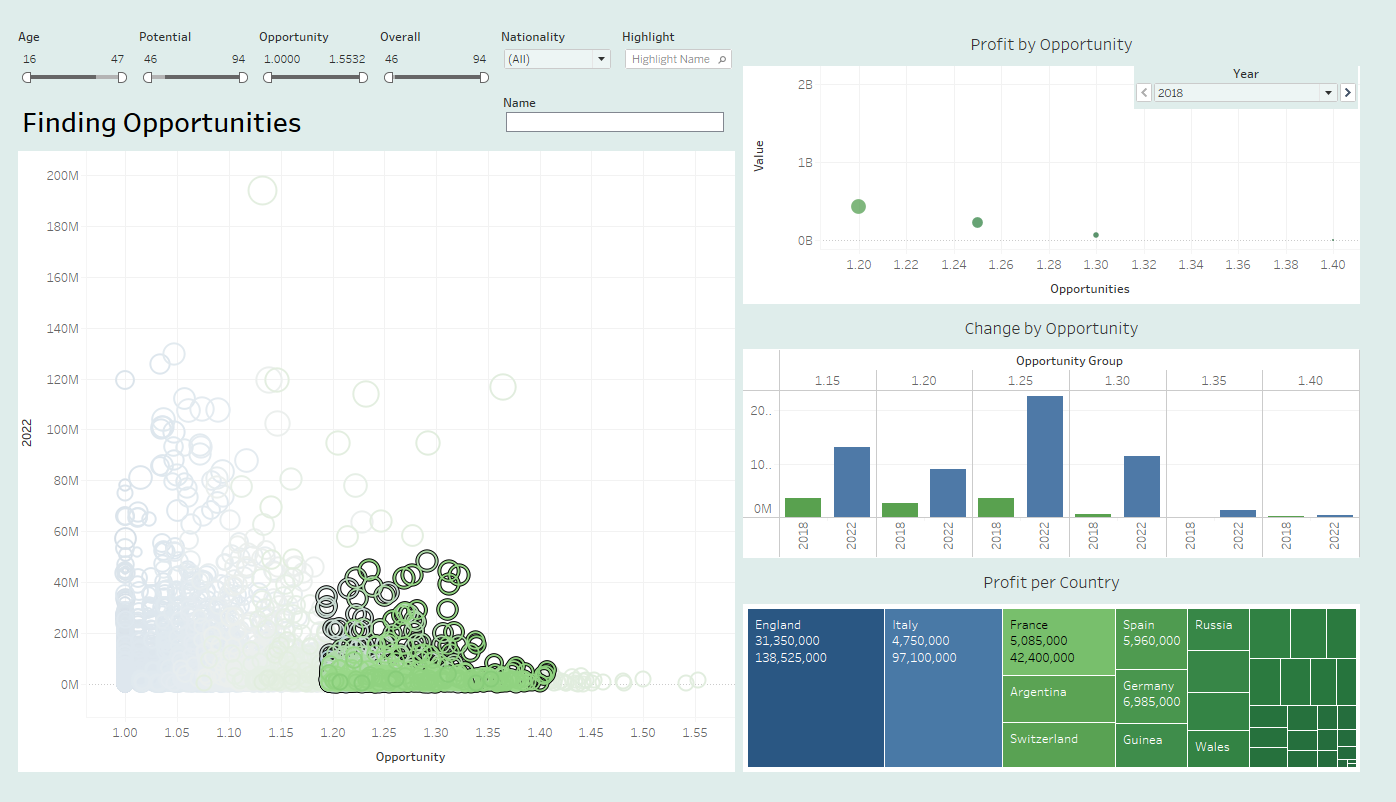

What the dashboard file says about the page in this screenshot:
{"tool":"tableau","page":{"name":"Dashboard","canvas":[1366,768],"ordinal":0},"visuals":[{"type":"filter","title":"Finding Opportunities","param":"[federated.0w4lbyq1ur9ub4160477h1f88rcn].[none:Age:qk]","box":[8,8,120.7,71]},{"type":"filter","title":"Finding Opportunities","param":"[federated.0w4lbyq1ur9ub4160477h1f88rcn].[sum:Potential:qk]","box":[128.7,8,120.7,71]},{"type":"filter","title":"Finding Opportunities","param":"[federated.0w4lbyq1ur9ub4160477h1f88rcn].[none:Opportunity:qk]","box":[249.5,8,120.7,71]},{"type":"filter","title":"Finding Opportunities","param":"[federated.0w4lbyq1ur9ub4160477h1f88rcn].[sum:Overall:qk]","box":[370.2,8,120.7,71]},{"type":"filter","title":"Finding Opportunities","param":"[federated.0w4lbyq1ur9ub4160477h1f88rcn].[none:Nationality:nk]","box":[491,8,120.7,71]},{"type":"highlighter","title":"Finding Opportunities","param":"[federated.0w4lbyq1ur9ub4160477h1f88rcn].[none:Name:nk]","box":[611.7,8,120.8,71]},{"type":"worksheet","title":"Profit by Opportunity","mark":"Circle","rows":["Value"],"cols":["Opportunity (Sheet1)"],"box":[732.5,8,625.5,284]},{"type":"currpage","title":"Profit by Opportunity","box":[1128,49,224,44]},{"type":"filter","title":"Finding Opportunities","param":"[federated.0w4lbyq1ur9ub4160477h1f88rcn].[none:Name:nk]","box":[497,78,224,98]},{"type":"worksheet","title":"Finding Opportunities","mark":"Automatic","rows":["2022"],"cols":["Opportunity"],"box":[8,79,724.5,681]},{"type":"worksheet","title":"Change by Opportunity","mark":"Automatic","cols":["Opportunity (bin)"],"box":[732.5,292,625.5,254]},{"type":"worksheet","title":"Profit per Country","mark":"Automatic","box":[732.5,546,625.5,214]}]}

Visuals, with their boxes in screenshot pixels (x1, y1, x2, y2), scaled from the page's 1366x768 canvas onto the 1396x802 screenshot:
"Finding Opportunities" filter: left=8, top=8, right=132, bottom=82
"Finding Opportunities" filter: left=132, top=8, right=255, bottom=82
"Finding Opportunities" filter: left=255, top=8, right=378, bottom=82
"Finding Opportunities" filter: left=378, top=8, right=502, bottom=82
"Finding Opportunities" filter: left=502, top=8, right=625, bottom=82
"Finding Opportunities" highlighter: left=625, top=8, right=749, bottom=82
"Profit by Opportunity" worksheet (Circle marks): left=749, top=8, right=1388, bottom=305
"Profit by Opportunity" currpage: left=1153, top=51, right=1382, bottom=97
"Finding Opportunities" filter: left=508, top=81, right=737, bottom=184
"Finding Opportunities" worksheet: left=8, top=82, right=749, bottom=794
"Change by Opportunity" worksheet: left=749, top=305, right=1388, bottom=570
"Profit per Country" worksheet: left=749, top=570, right=1388, bottom=794
